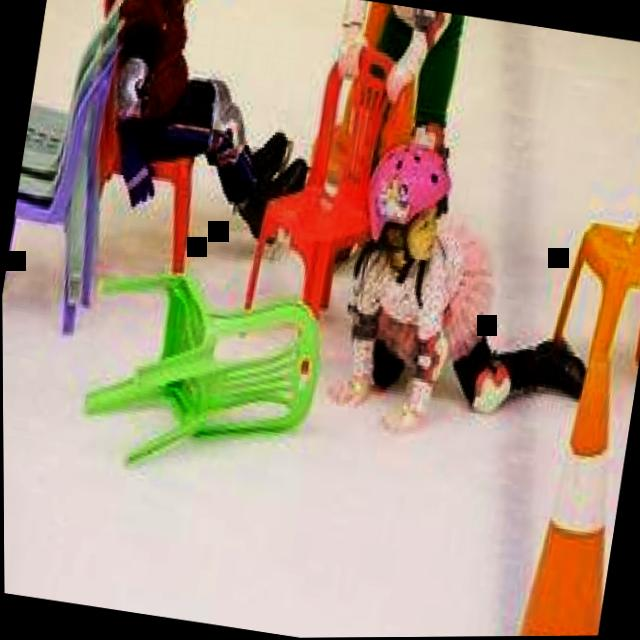Fall-Detected: (308, 110, 624, 451)
